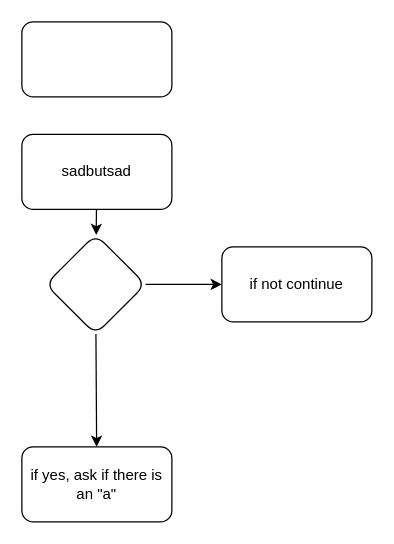
This 394x544 diagram has some shape labels left out. The centre of each missing label's shape, as x and y in pixels:
is there an "s"?: pixel 95 283
sad: pixel 96 59
